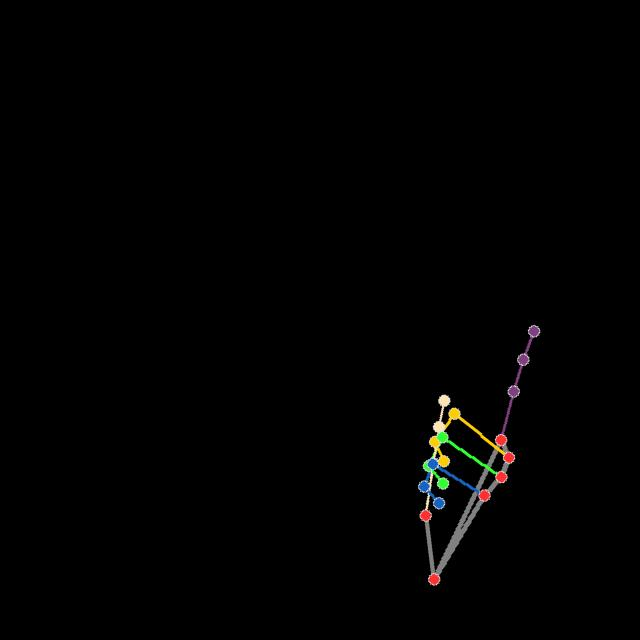gun: (416, 323, 541, 587)
